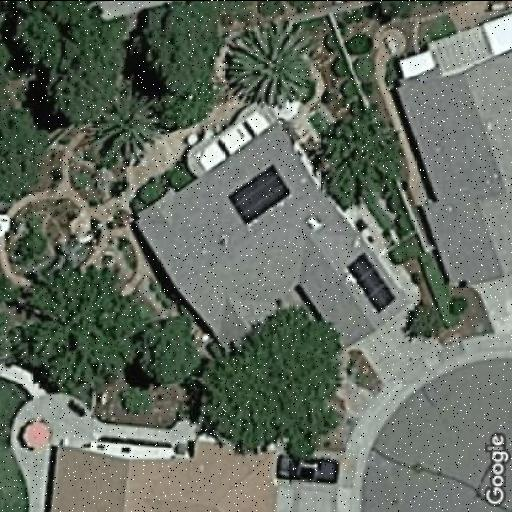solar-panel: (227, 162, 290, 230), (346, 250, 396, 314)
